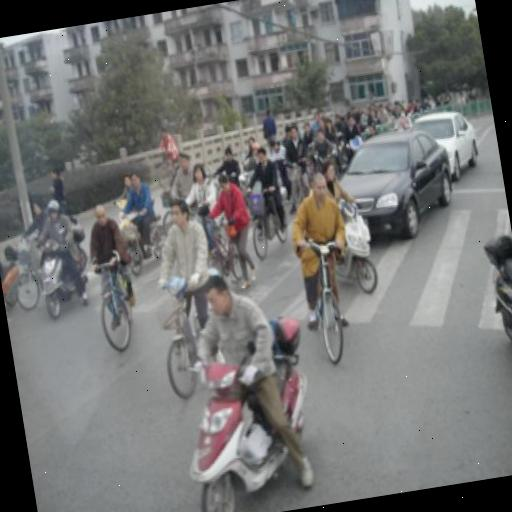helmet: (27, 188, 93, 310)
no helmet: (158, 259, 316, 498), (272, 154, 368, 352), (78, 191, 142, 341)
